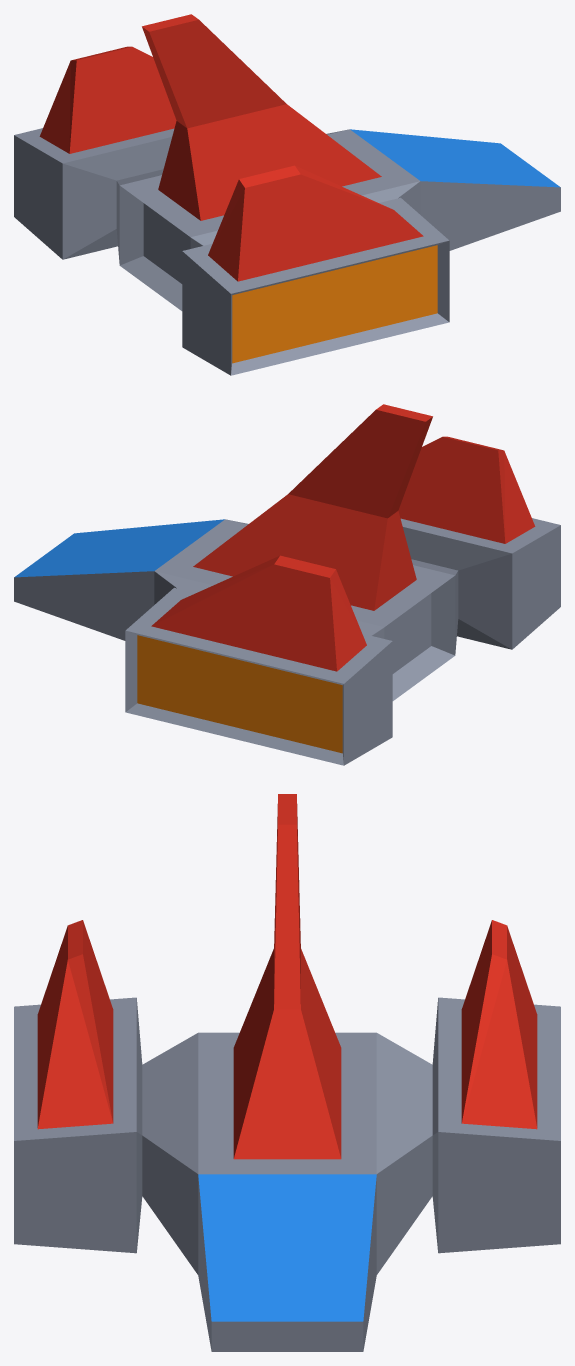
Rendered from nave.obj.
3 views of the same model, one above another, from view 1: azimuth 30°, elevation 25°; view 2: azimuth 150°, elevation 25°; view 3: azimuth 270°, elevation 25° (orthographic). The views are drawn at different scales.
Parts seen in each view (by area): view 1: Nave; view 2: Nave; view 3: Nave.
Part boxes in pixels (box(x1,y1,x2,y2)): Nave: box(14, 14, 560, 375); Nave: box(14, 404, 560, 765); Nave: box(14, 794, 560, 1351).
Size of the model in its own units: 5.33 by 3.35 by 4.9.
